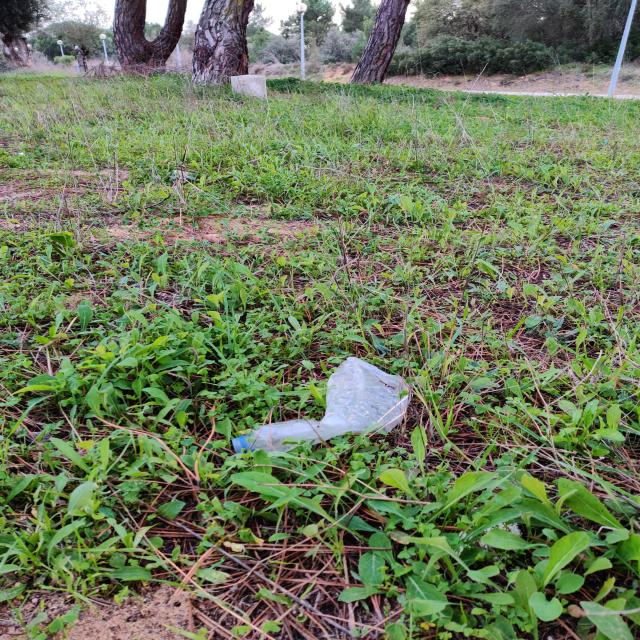litter: (222, 345, 459, 483)
